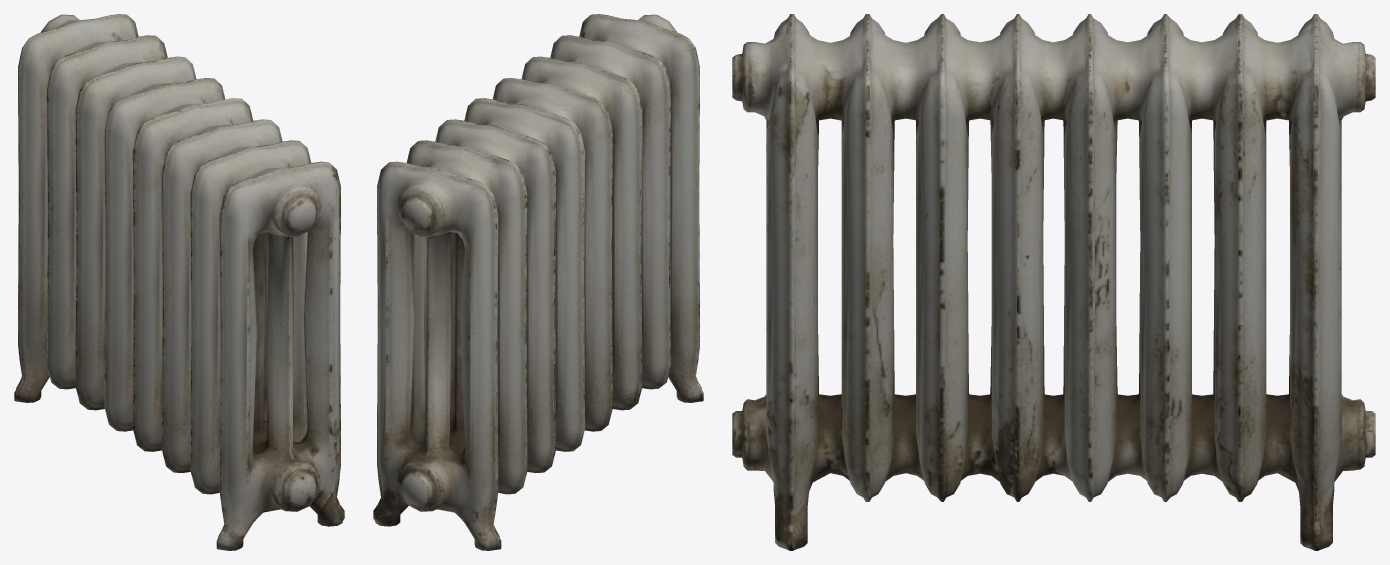
The model's file is radiator.glb.
3 renders of one model, left to right at view 1: azimuth 30°, elevation 25°; view 2: azimuth 150°, elevation 25°; view 3: azimuth 270°, elevation 25°, orthographic. The views are drawn at different scales.
Visible parts, largest first — view 1: tripo_node_1f40aac6-dde8-4aa1-9ac1-6db27; view 2: tripo_node_1f40aac6-dde8-4aa1-9ac1-6db27; view 3: tripo_node_1f40aac6-dde8-4aa1-9ac1-6db27.
Boxes of the visible parts, box(x1,y1,x2,y2) form: tripo_node_1f40aac6-dde8-4aa1-9ac1-6db27: box(14, 14, 344, 550); tripo_node_1f40aac6-dde8-4aa1-9ac1-6db27: box(373, 14, 703, 550); tripo_node_1f40aac6-dde8-4aa1-9ac1-6db27: box(732, 14, 1375, 550).
Bounding box in the file's own units: 0.2949 × 0.8105 × 0.998.
Materials: 1 (1 with a texture image).
